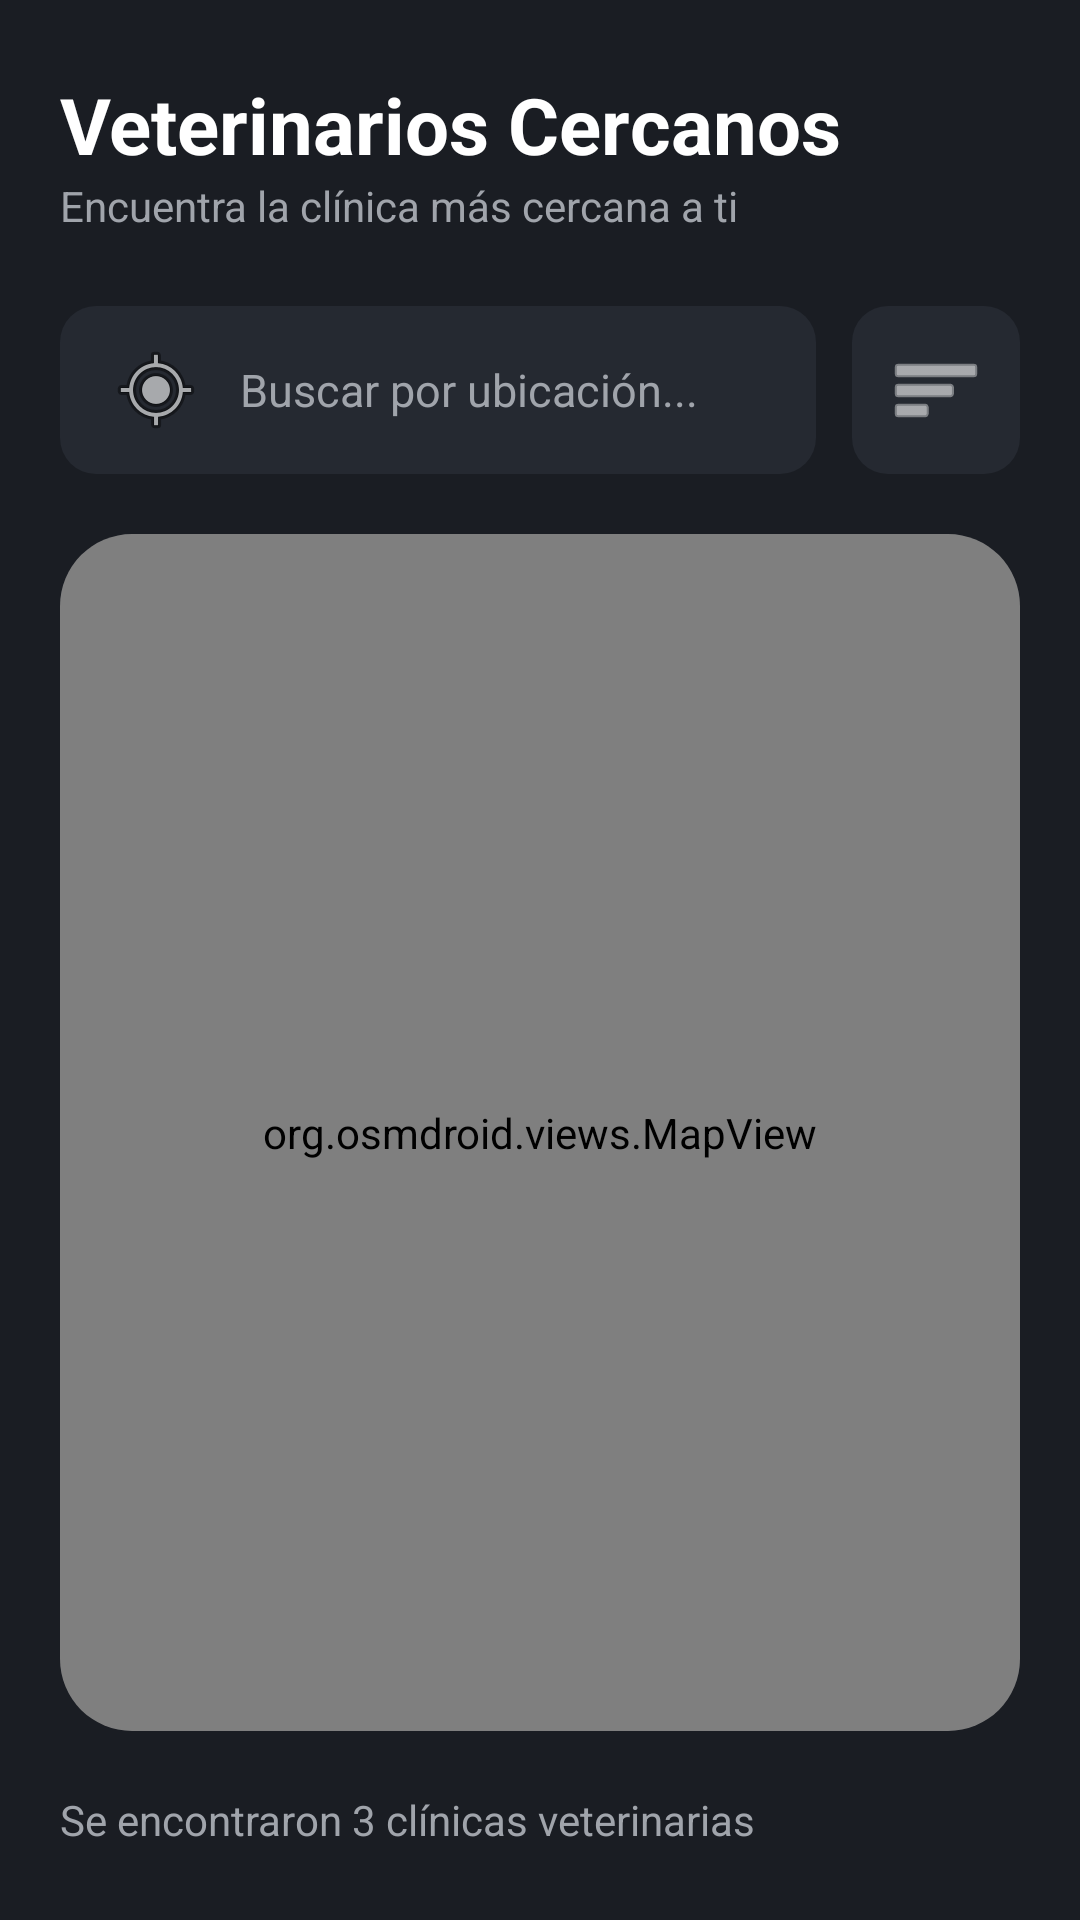

Named icons in this screenshot (1080w x 1920h) and their bounding boxes, rect(x1, y1, x2, y2):
sort by size: rect(894, 363, 978, 418)
